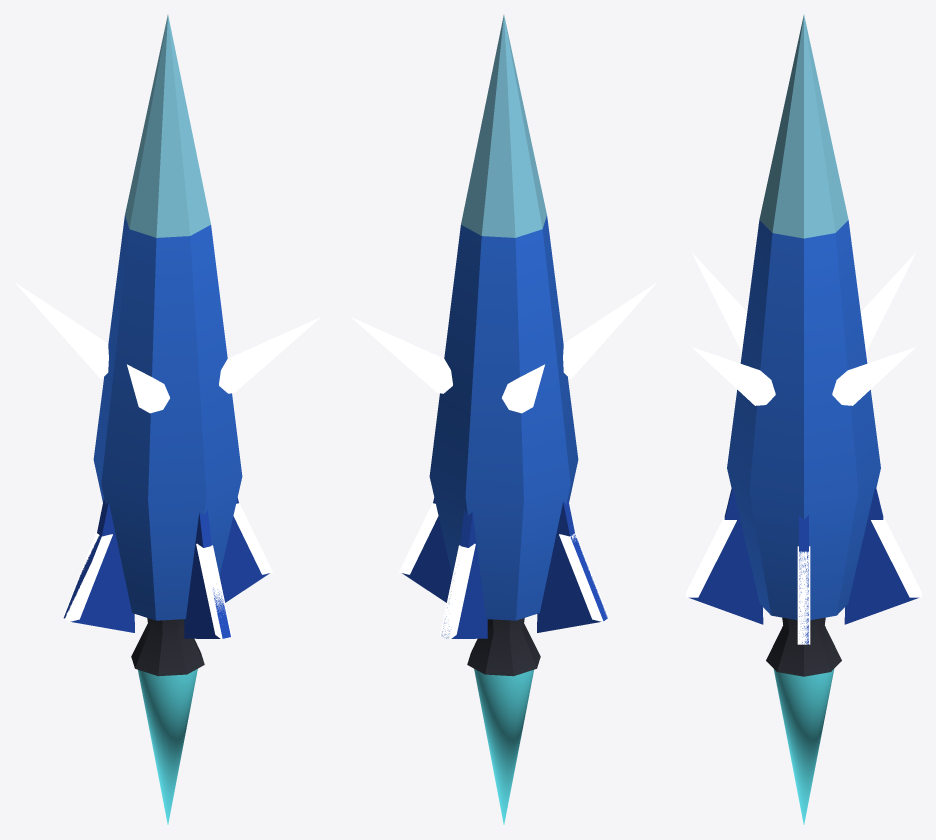
File: Rocket_38_GlacierCrystal.fbx
3 views of the same model, side by side, from view 1: azimuth 30°, elevation 25°; view 2: azimuth 150°, elevation 25°; view 3: azimuth 270°, elevation 25° (orthographic).
Visible parts, largest first — view 1: R38_Body, R38_Nose, R38_Flame_1, R38_Fin_2, R38_Nozzle_1, R38_Fin_3, R38_Spike_4, R38_Spike_2, R38_Fin_4, R38_FinGlow_3, R38_FinGlow_2, R38_Spike_3 (+1 smaller); view 2: R38_Body, R38_Nose, R38_Flame_1, R38_Fin_2, R38_Nozzle_1, R38_Fin_1, R38_Spike_1, R38_Spike_3, R38_Fin_4, R38_FinGlow_1, R38_Spike_2, R38_FinGlow_2 (+1 smaller); view 3: R38_Body, R38_Nose, R38_Flame_1, R38_Fin_1, R38_Fin_3, R38_Nozzle_1, R38_Spike_1, R38_Spike_4, R38_Spike_2, R38_Spike_3, R38_FinGlow_4, R38_FinGlow_1 (+2 smaller).
Part boxes in pixels (x1,y1,x2,y2): R38_Body: [93, 216, 242, 620]; R38_Nose: [125, 15, 210, 237]; R38_Flame_1: [138, 669, 197, 824]; R38_Fin_2: [63, 499, 134, 632]; R38_Nozzle_1: [131, 618, 204, 676]; R38_Fin_3: [184, 510, 230, 638]; R38_Spike_4: [219, 317, 320, 393]; R38_Spike_2: [14, 282, 108, 378]; R38_Fin_4: [219, 498, 269, 602]; R38_FinGlow_3: [196, 543, 232, 639]; R38_FinGlow_2: [63, 532, 112, 621]; R38_Spike_3: [127, 364, 169, 413]; R38_Body: [429, 216, 578, 620]; R38_Nose: [461, 15, 546, 237]; R38_Flame_1: [474, 669, 533, 824]; R38_Fin_2: [537, 499, 607, 632]; R38_Nozzle_1: [467, 618, 540, 676]; R38_Fin_1: [441, 510, 487, 638]; R38_Spike_1: [351, 317, 452, 393]; R38_Spike_3: [563, 282, 657, 378]; R38_Fin_4: [402, 498, 452, 602]; R38_FinGlow_1: [439, 543, 475, 639]; R38_Spike_2: [502, 364, 544, 413]; R38_FinGlow_2: [559, 532, 608, 621]; R38_Body: [727, 220, 880, 620]; R38_Nose: [759, 15, 848, 238]; R38_Flame_1: [773, 669, 834, 824]; R38_Fin_1: [844, 487, 918, 624]; R38_Fin_3: [689, 487, 763, 624]; R38_Nozzle_1: [766, 617, 841, 676]; R38_Spike_1: [832, 347, 915, 405]; R38_Spike_4: [692, 347, 775, 405]; R38_Spike_2: [860, 252, 916, 351]; R38_Spike_3: [691, 252, 747, 351]; R38_FinGlow_4: [797, 546, 810, 644]; R38_FinGlow_1: [871, 516, 921, 597].
Bounding box in the file's own units: 2.9 × 11.05 × 2.9.
